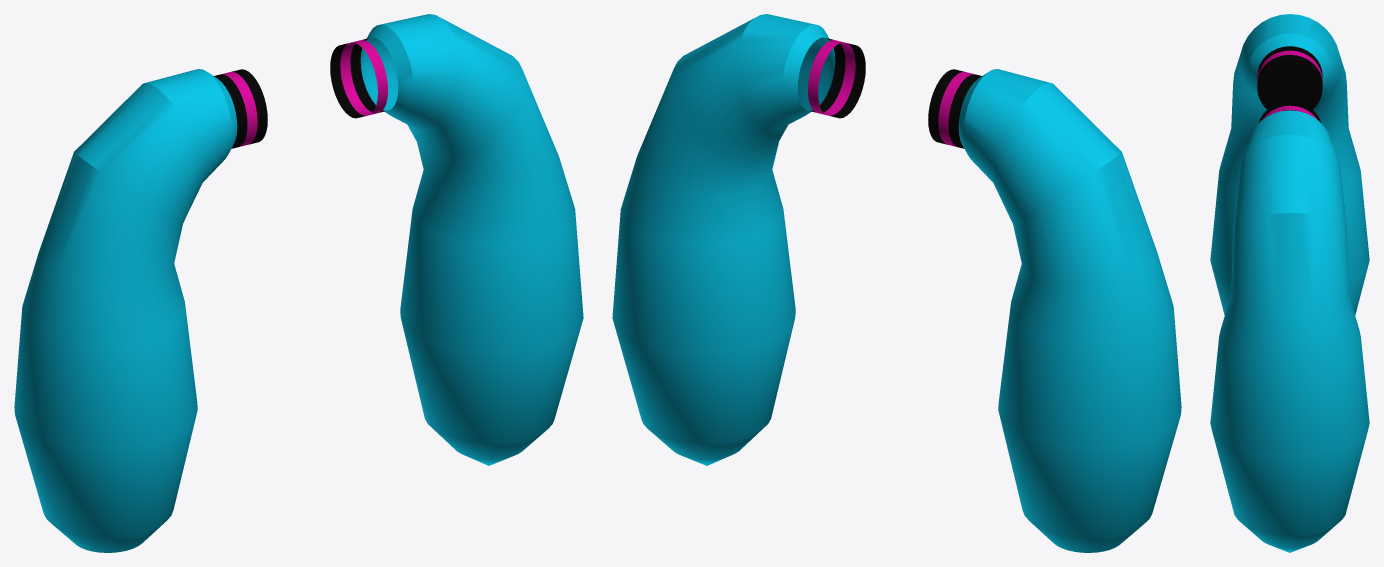
The model's file is Miku hair.fbx.
3 renders of one model, left to right at view 1: azimuth 30°, elevation 25°; view 2: azimuth 150°, elevation 25°; view 3: azimuth 270°, elevation 25°, orthographic. The views are drawn at different scales.
Parts seen in each view (by area): view 1: Miku; view 2: Miku; view 3: Miku.
Part boxes in pixels (left/top/right/bottom): Miku: left=14, top=14, right=583, bottom=552; Miku: left=612, top=14, right=1181, bottom=552; Miku: left=1210, top=14, right=1369, bottom=552.
Bounding box in the file's own units: 1108 × 898 × 324.
